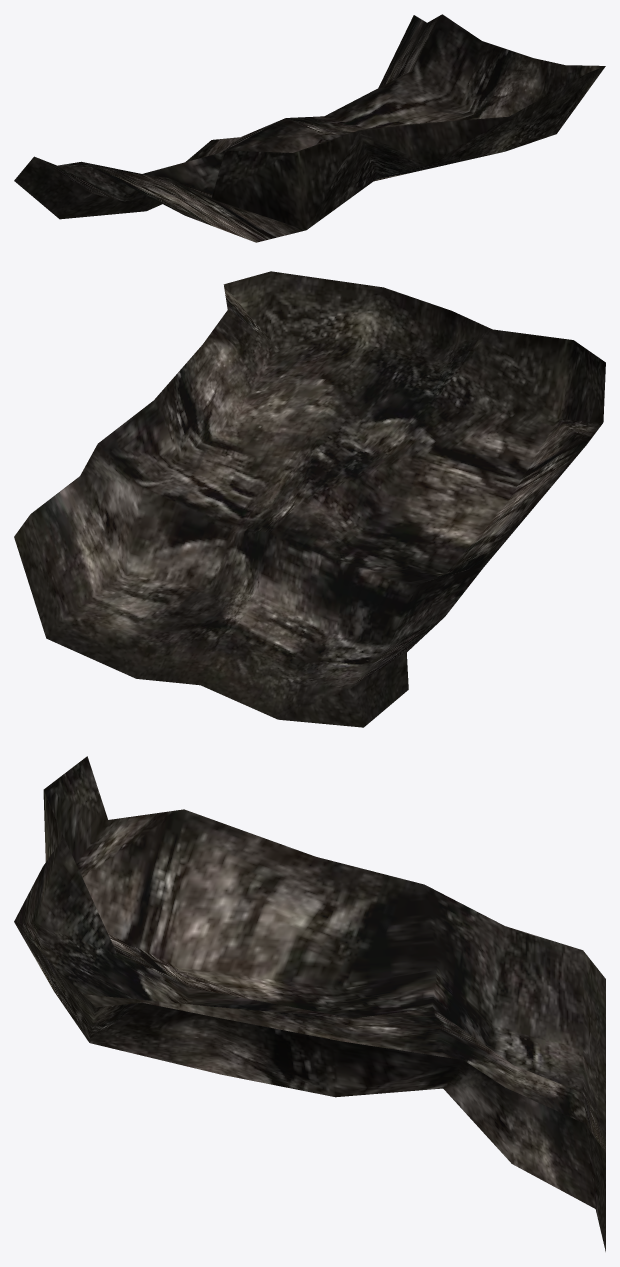
3 views of the same model, one above another, from view 1: azimuth 30°, elevation 25°; view 2: azimuth 150°, elevation 25°; view 3: azimuth 270°, elevation 25° (orthographic). The views are drawn at different scales.
Visible parts, largest first — view 1: model_Object04; view 2: model_Object04; view 3: model_Object04.
Boxes of the visible parts, box(x1,y1,x2,y2) form: model_Object04: box(14, 14, 605, 242); model_Object04: box(14, 271, 605, 727); model_Object04: box(14, 756, 605, 1251).
Bounding box in the file's own units: 4.75 × 2.66 × 4.67.
1 material, 1 textured.
